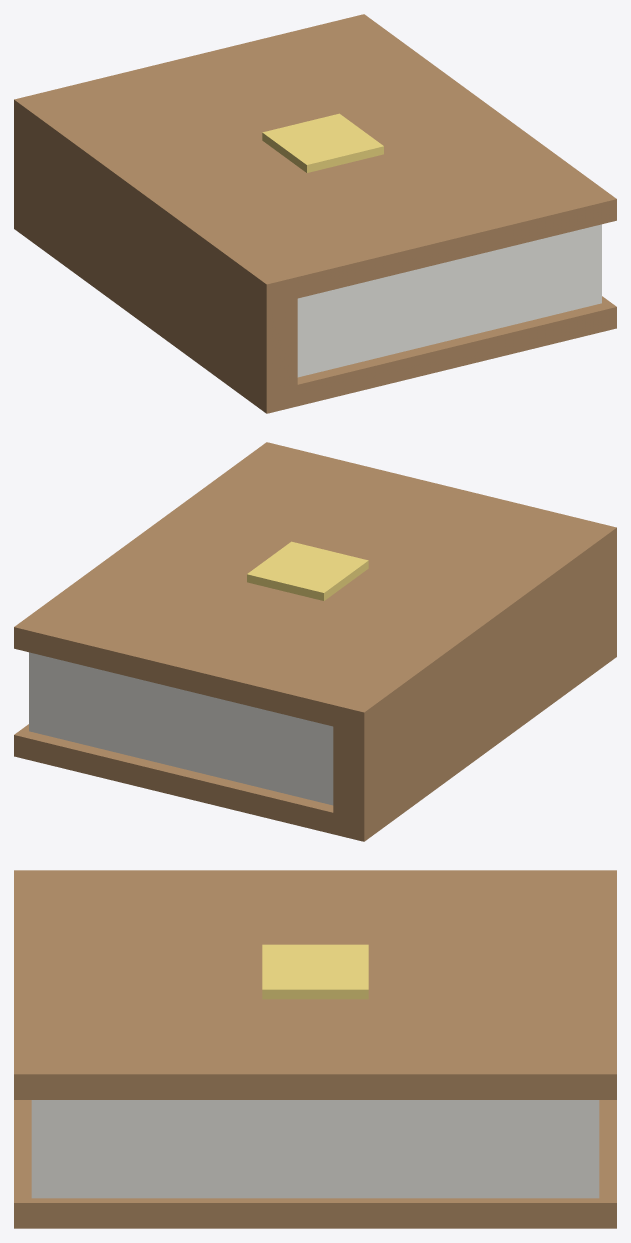
File: book_held.gltf
The picture shows the model from 3 angles, top to bottom: view 1: azimuth 30°, elevation 25°; view 2: azimuth 150°, elevation 25°; view 3: azimuth 270°, elevation 25°; orthographic projection. The views are drawn at different scales.
Visible parts, largest first — view 1: cane_book_held; view 2: cane_book_held; view 3: cane_book_held.
Boxes of the visible parts, x1,y1,x2,y2 form: cane_book_held: (14,14,616,413); cane_book_held: (14,442,616,841); cane_book_held: (14,870,616,1228).
Size of the model in its own units: 0.136 by 0.051 by 0.17.
